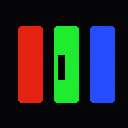4 line_v: (58, 55, 64, 79)
